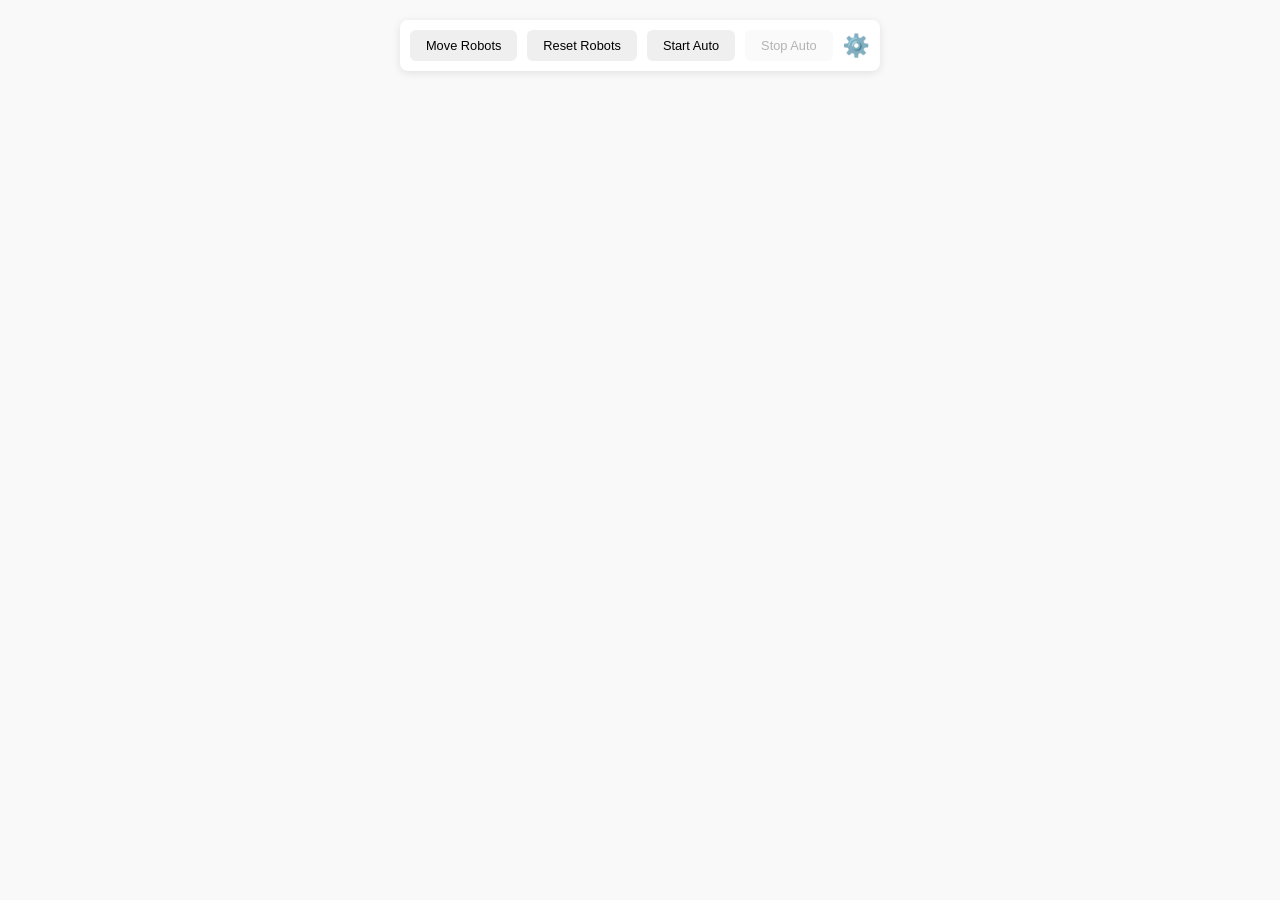
Test: Controls › opens and closes the options modal
The image size is (1280, 900).
Step 1. Click the icon titled "Options" → [856, 46], box [843, 32, 870, 58]
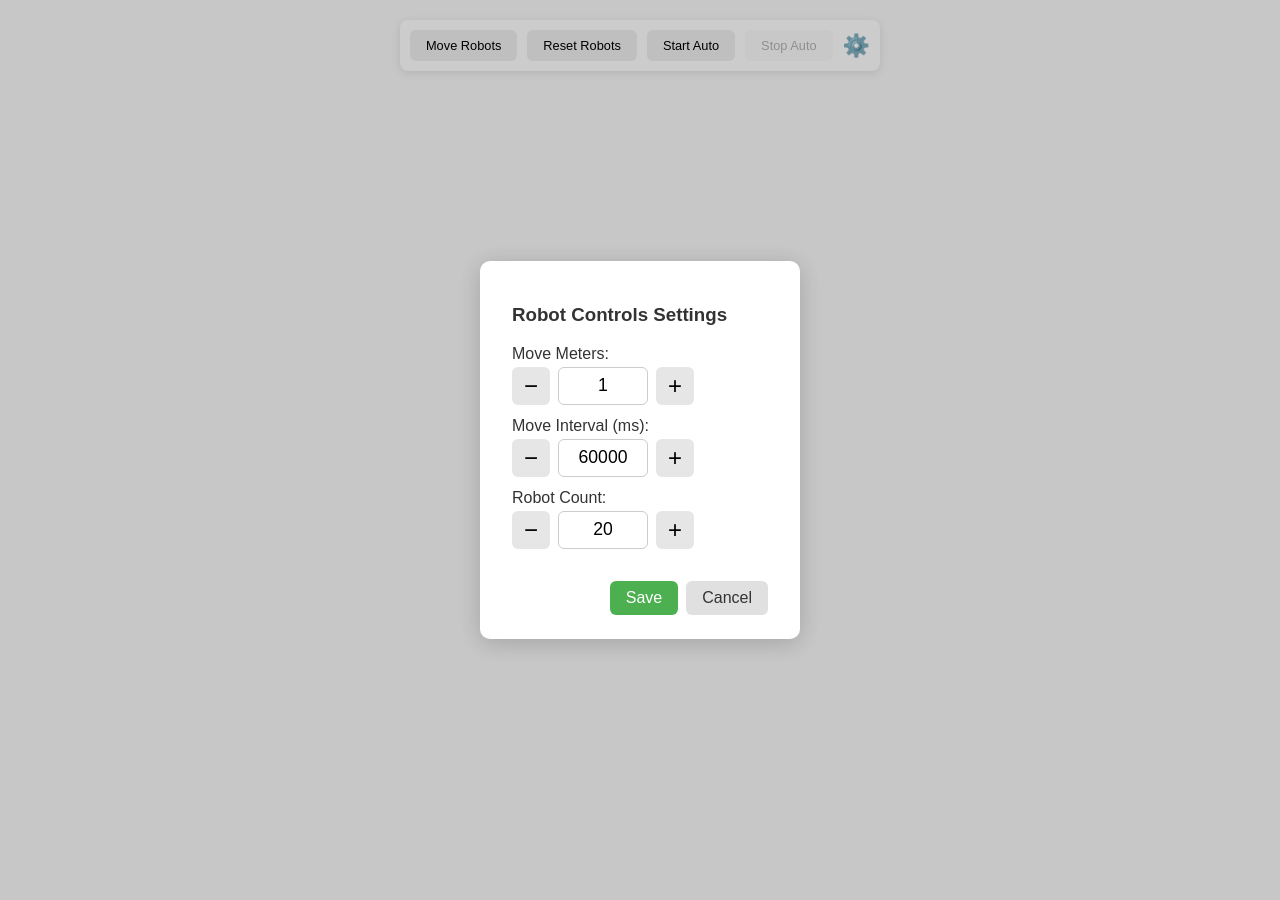
Result: the heading "Robot Controls Settings" is shown at [512, 304, 727, 325]
Step 2. Click the button "Cancel" → [727, 598], box [686, 581, 768, 615]
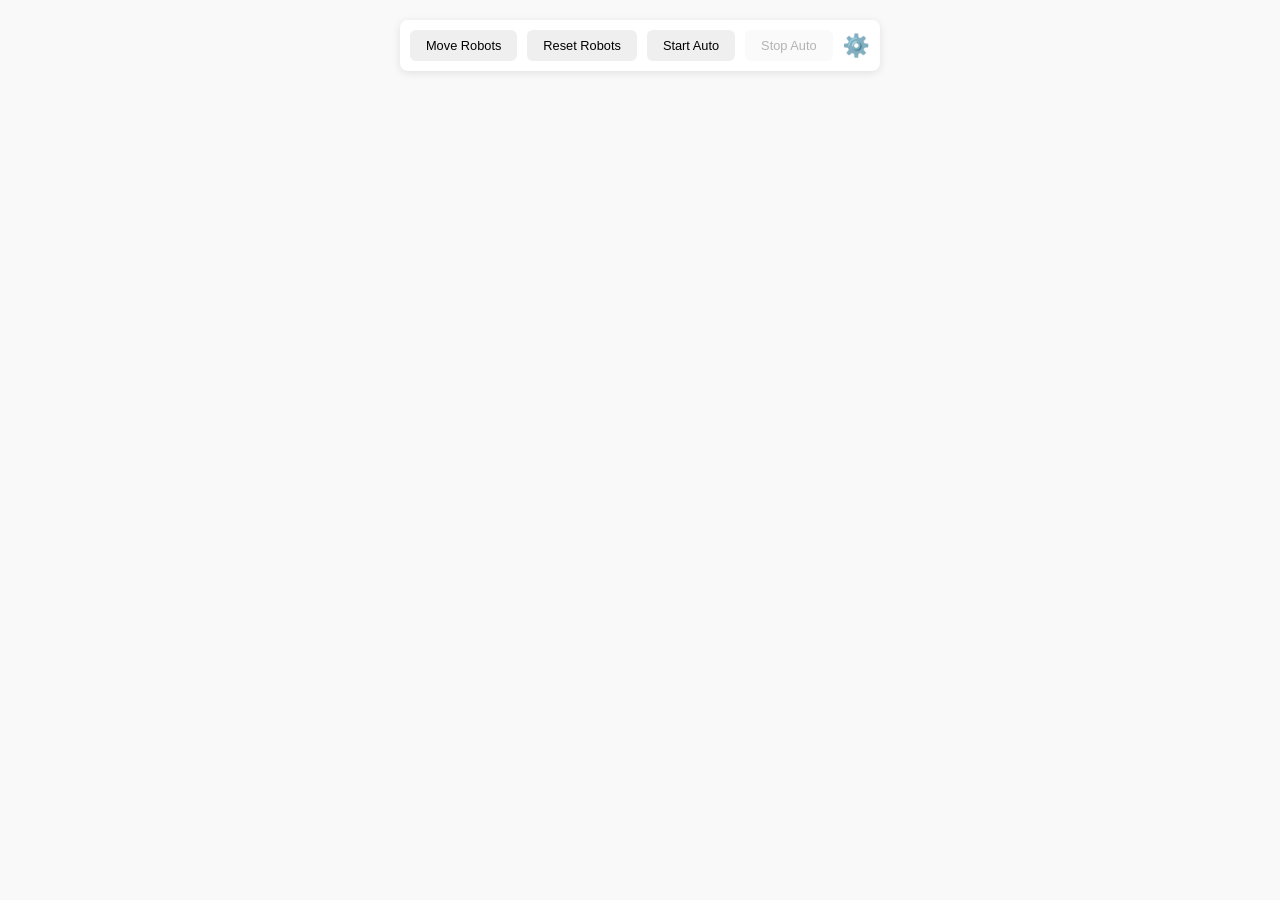
Result: the heading "Robot Controls Settings" is gone
